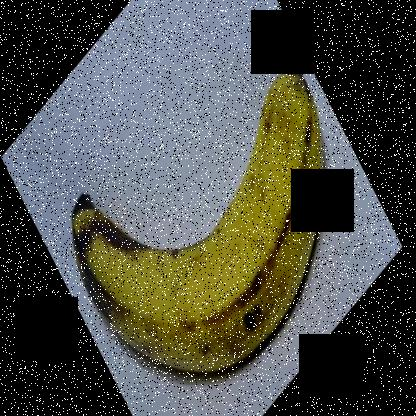ripe: (62, 65, 334, 380)
